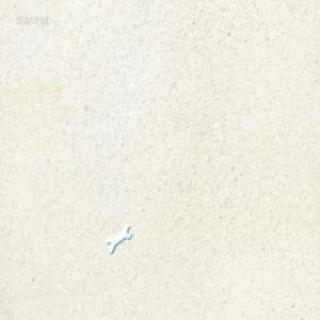Wrenchtrack_idkeyframe: (106, 222, 131, 253)
